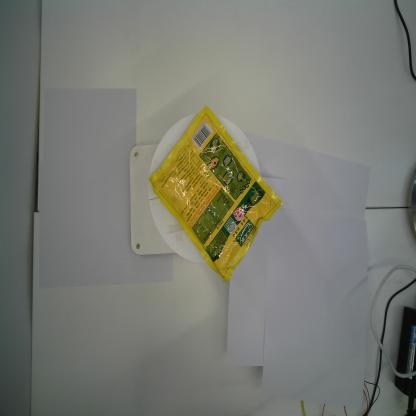Seasoner: (148, 105, 284, 283)
